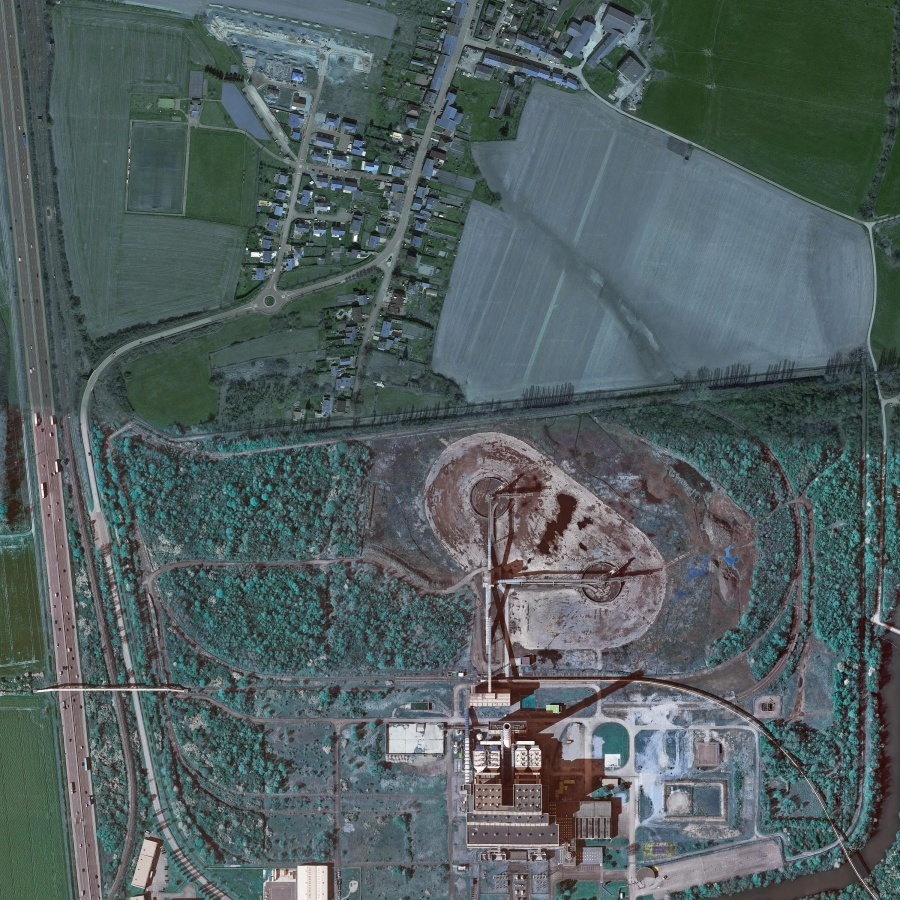PowerPlant: (392, 432, 665, 858)
